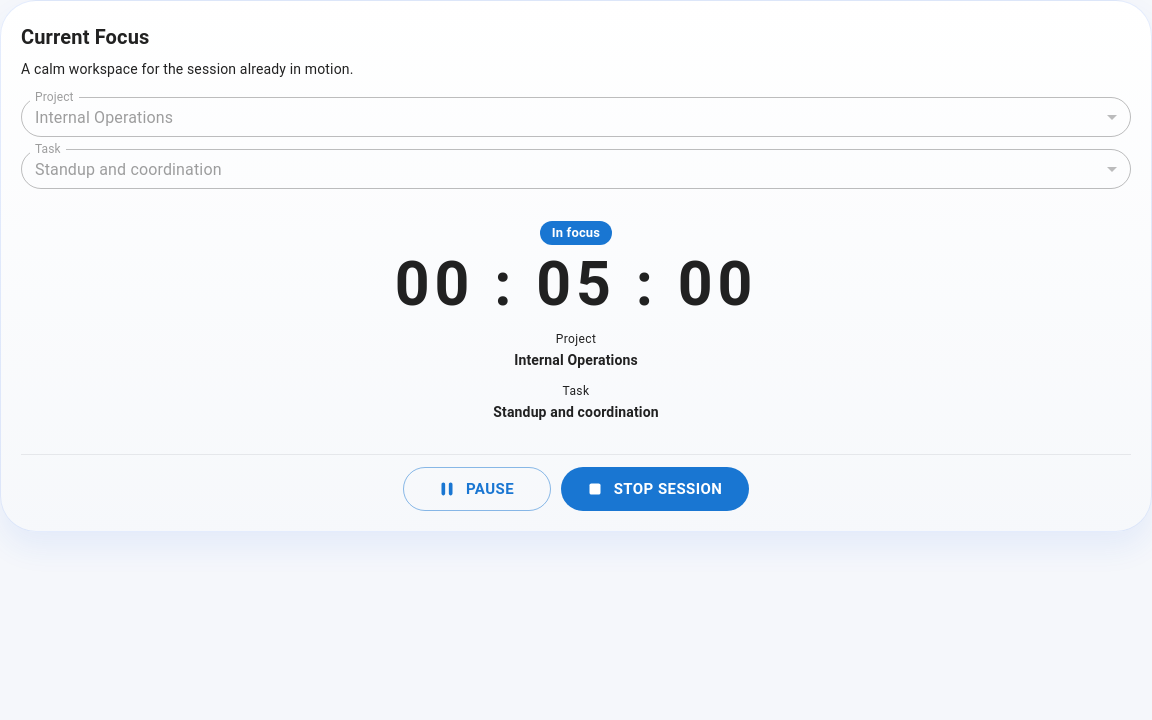
CurrentFocusCard › stop session modal › closes the modal when "Cancel" is clicked
What coordinates should you click on to do the following:
click the button "Stop Session"
I would click on:
 (655, 489)
Its box is [561,467,749,511].
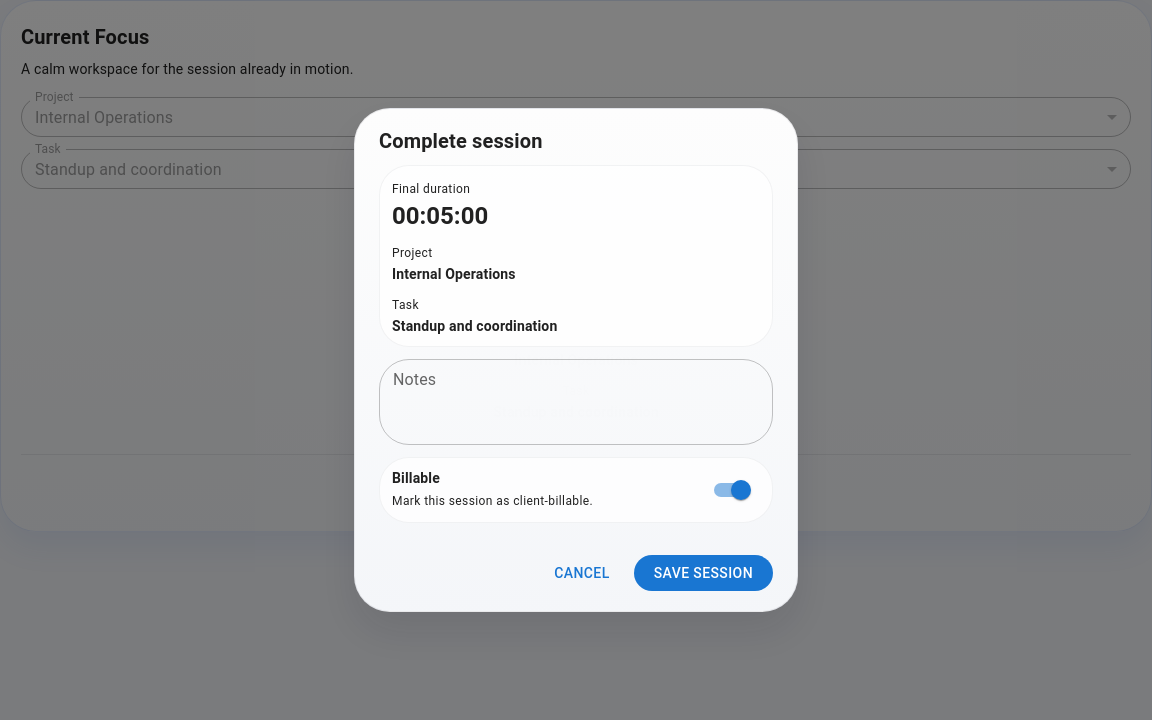
What coordinates should you click on to do the following:
click the button "Cancel"
I would click on:
 (582, 573)
Its box is [538,555,626,591].
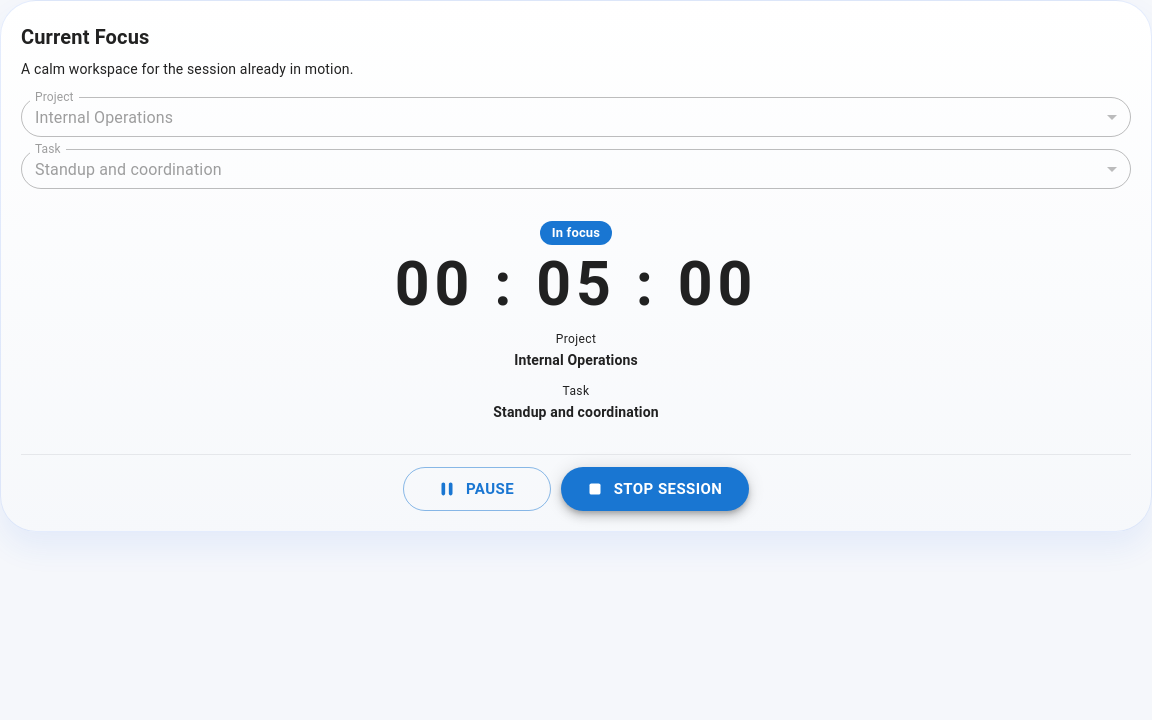
Check: the text "Complete session" is gone
